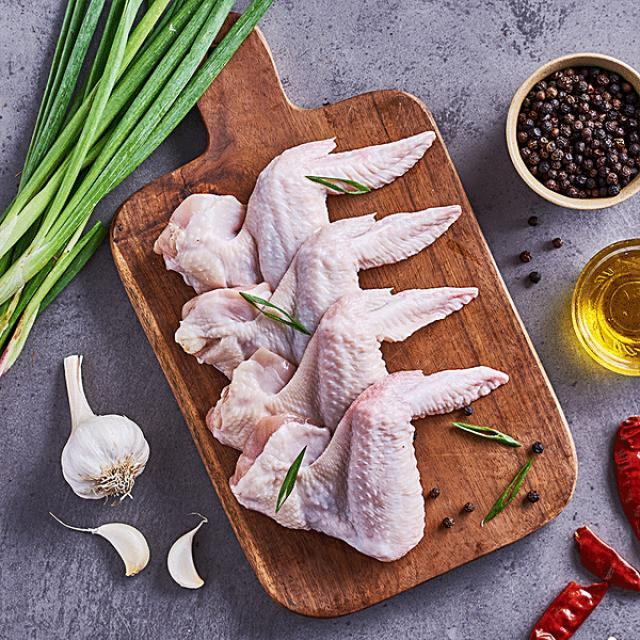wing: (260, 364, 500, 558), (186, 202, 461, 370), (168, 136, 443, 288), (228, 279, 468, 442)
